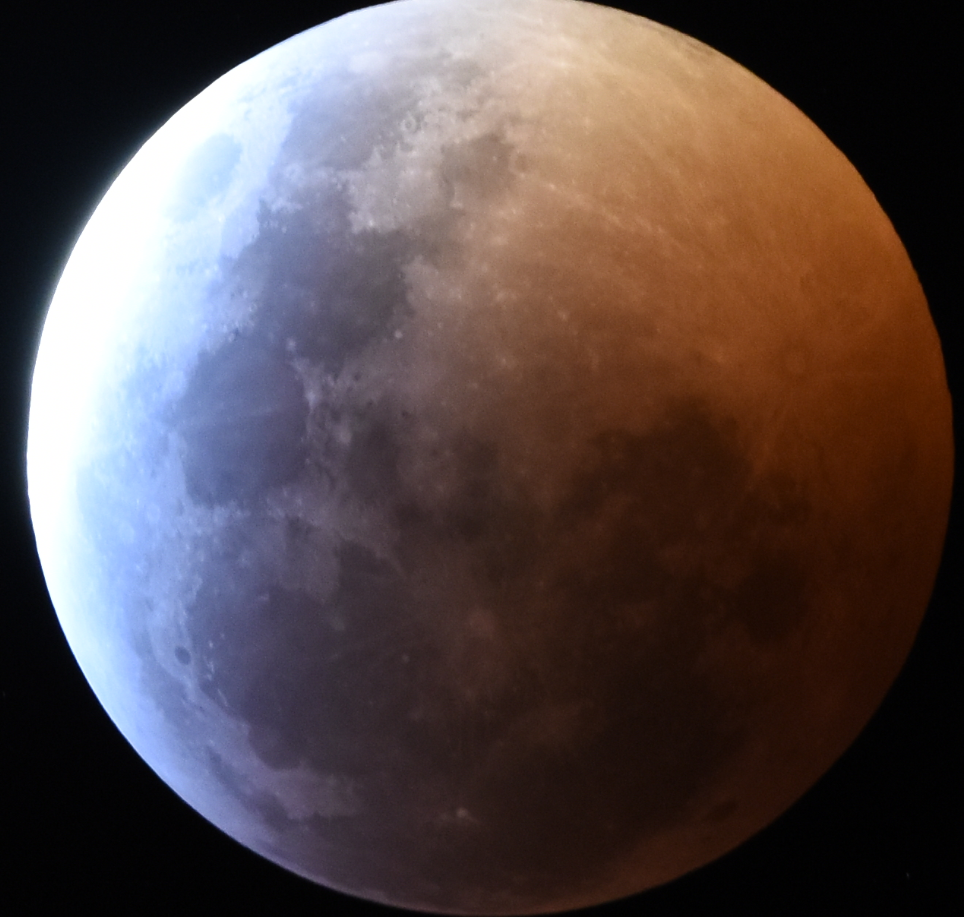crater: (719, 259, 890, 498), (436, 559, 563, 697), (157, 124, 261, 241), (526, 25, 629, 93), (540, 288, 602, 349), (434, 795, 502, 842), (693, 791, 749, 835), (323, 411, 366, 451), (380, 316, 422, 356), (165, 639, 199, 679), (108, 514, 143, 549), (198, 622, 236, 654), (139, 495, 173, 527), (502, 454, 537, 485), (392, 646, 422, 674), (423, 471, 451, 499), (360, 210, 385, 234), (243, 300, 265, 317)
